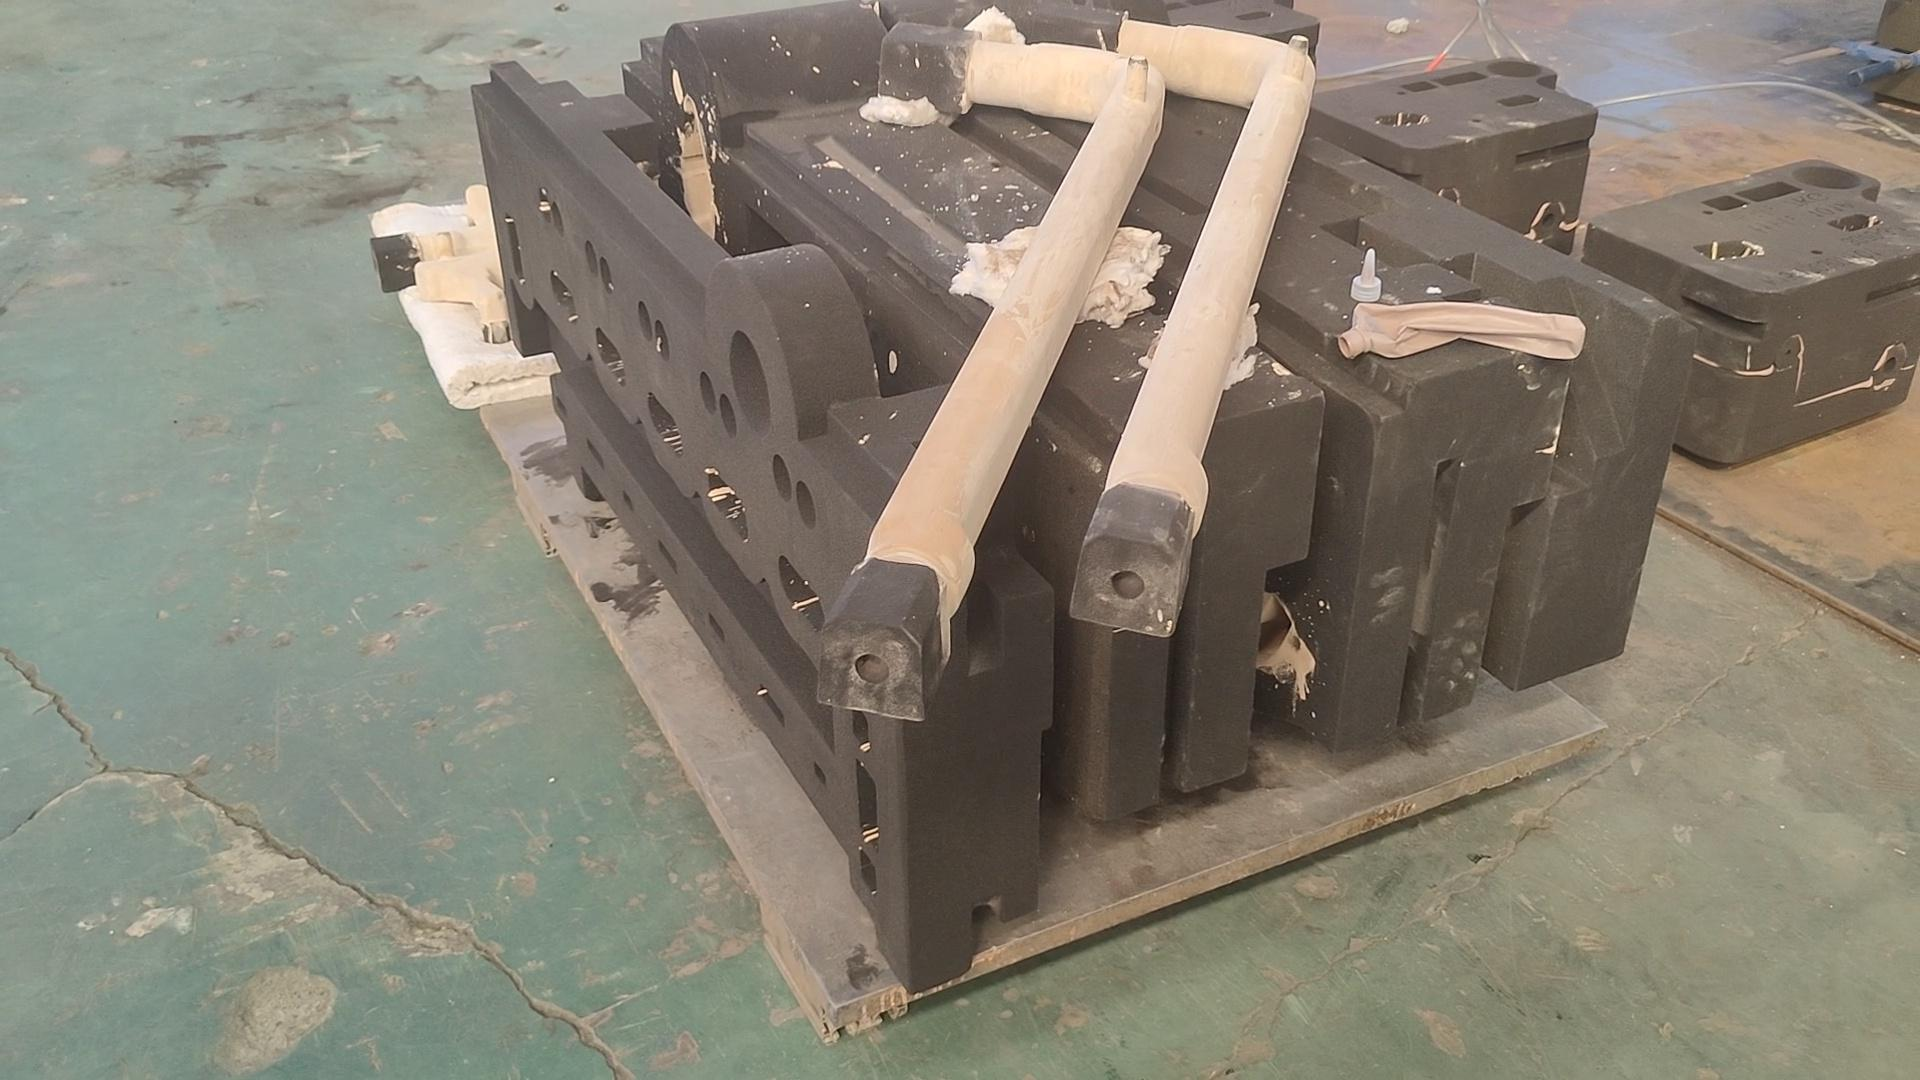pouring hole: (728, 330, 771, 438), (1793, 164, 1862, 190), (1484, 61, 1542, 78)
